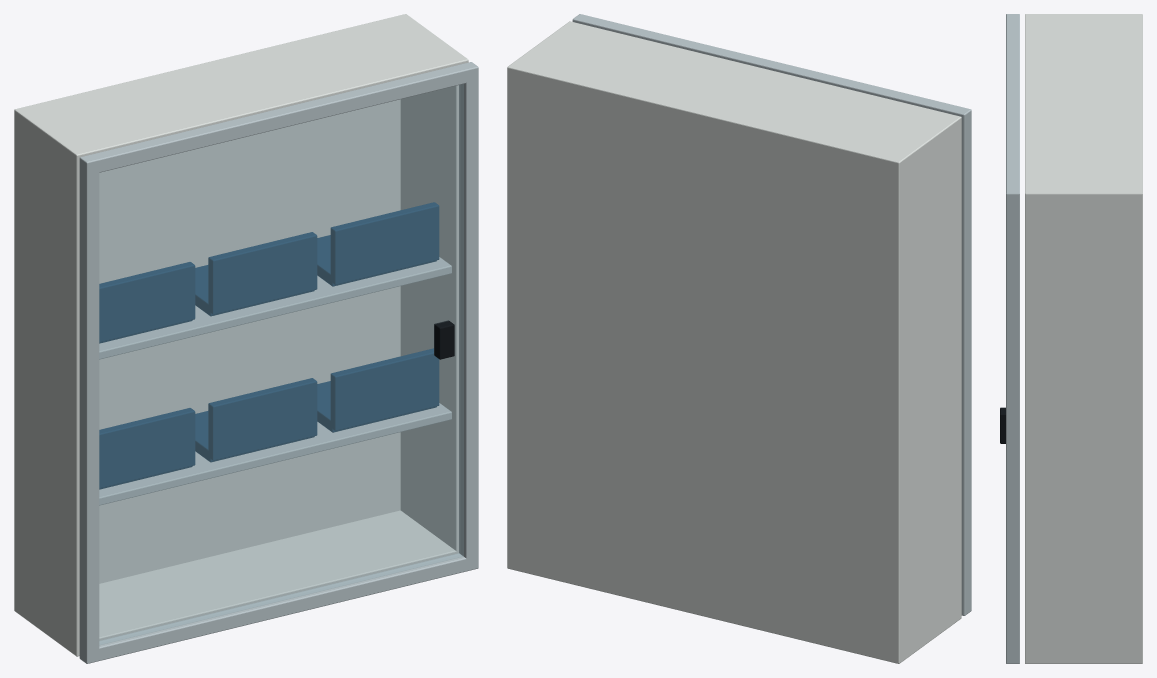
3 views of the same model, side by side, from view 1: azimuth 30°, elevation 25°; view 2: azimuth 150°, elevation 25°; view 3: azimuth 270°, elevation 25° (orthographic). The views are drawn at different scales.
Visible parts, largest first — view 1: DOOR_Glass, CASE_Back, CASE_Side.001, CASE_Cap, CASE_Side, CASE_Cap.001, DOOR_Frame, DOOR_Frame.001, DOOR_Rail.001, DOOR_Rail, BIN_Front, BIN_Front.002 (+11 smaller); view 2: CASE_Back, CASE_Side.001, CASE_Cap, DOOR_Frame, CASE_Side, DOOR_Rail.001, CASE_Cap.001; view 3: CASE_Side, CASE_Cap, CASE_Back, DOOR_Frame.001, DOOR_Rail.001, CASE_Cap.001.
Part boxes in pixels (x1,y1,x2,y2): DOOR_Glass: [99, 84, 463, 644]; CASE_Back: [14, 49, 400, 583]; CASE_Side.001: [14, 106, 88, 656]; CASE_Cap: [15, 14, 468, 167]; CASE_Side: [400, 14, 468, 551]; CASE_Cap.001: [76, 510, 458, 656]; DOOR_Frame: [79, 154, 99, 663]; DOOR_Frame.001: [459, 62, 478, 571]; DOOR_Rail.001: [83, 62, 478, 174]; DOOR_Rail: [99, 553, 478, 660]; BIN_Front: [330, 202, 439, 284]; BIN_Front.002: [208, 378, 317, 460]; CASE_Back: [507, 62, 906, 663]; CASE_Side.001: [887, 114, 961, 663]; CASE_Cap: [507, 21, 961, 174]; DOOR_Frame: [952, 106, 971, 615]; CASE_Side: [507, 21, 569, 571]; DOOR_Rail.001: [574, 14, 970, 126]; CASE_Cap.001: [507, 556, 961, 663]; CASE_Side: [1025, 187, 1142, 663]; CASE_Cap: [1025, 14, 1142, 204]; CASE_Back: [1129, 14, 1142, 663]; DOOR_Frame.001: [1006, 187, 1019, 663]; DOOR_Rail.001: [1006, 14, 1019, 192]; CASE_Cap.001: [1025, 652, 1142, 663].
Size of the model in its own units: 0.9 by 1.1 by 0.3025.
